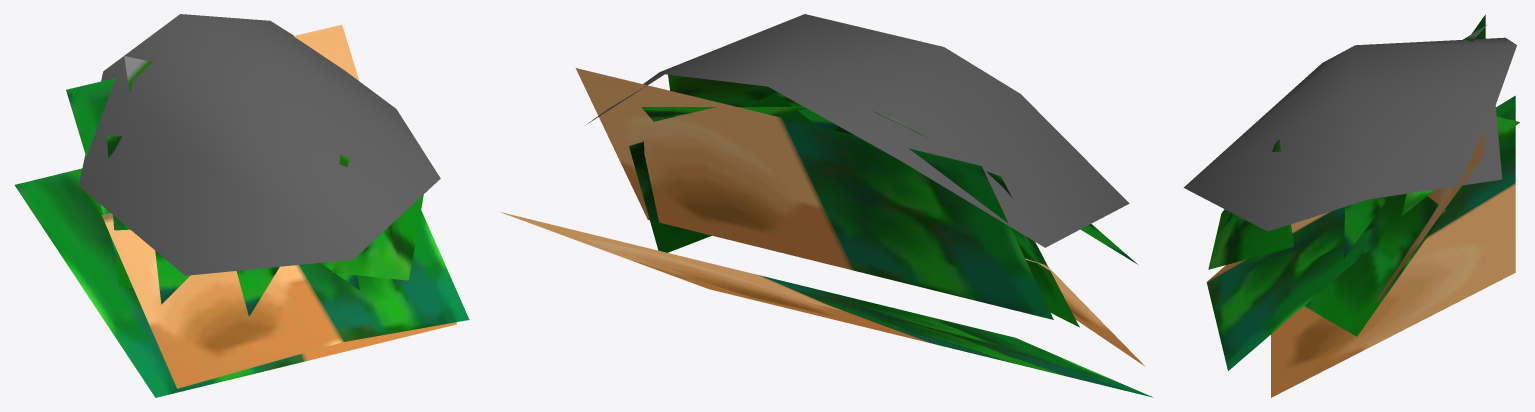
File: fg_bushD_2_s.dae
The picture shows the model from 3 angles, left to right: view 1: azimuth 30°, elevation 25°; view 2: azimuth 150°, elevation 25°; view 3: azimuth 270°, elevation 25°; orthographic projection. The views are drawn at different scales.
Parts seen in each view (by area): view 1: fg_bushD_2_s; view 2: fg_bushD_2_s; view 3: fg_bushD_2_s.
Part boxes in pixels (x1,y1,x2,y2): fg_bushD_2_s: (14, 14, 469, 397); fg_bushD_2_s: (500, 14, 1153, 397); fg_bushD_2_s: (1183, 14, 1519, 397).
Size of the model in its own units: 47.83 by 34.27 by 38.41.
1 material, 1 textured.
